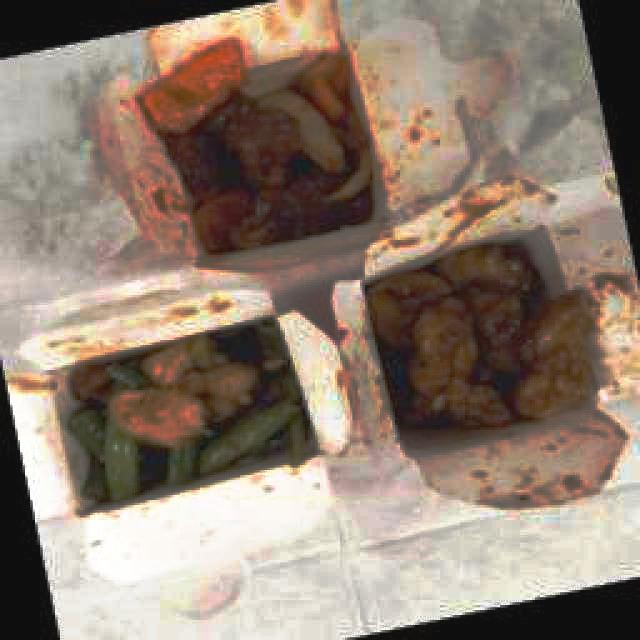Beijing Beef: (142, 37, 375, 251)
Kung Pao Chicken: (364, 236, 580, 428)
String Bean Chicken Breast: (65, 326, 288, 494)
